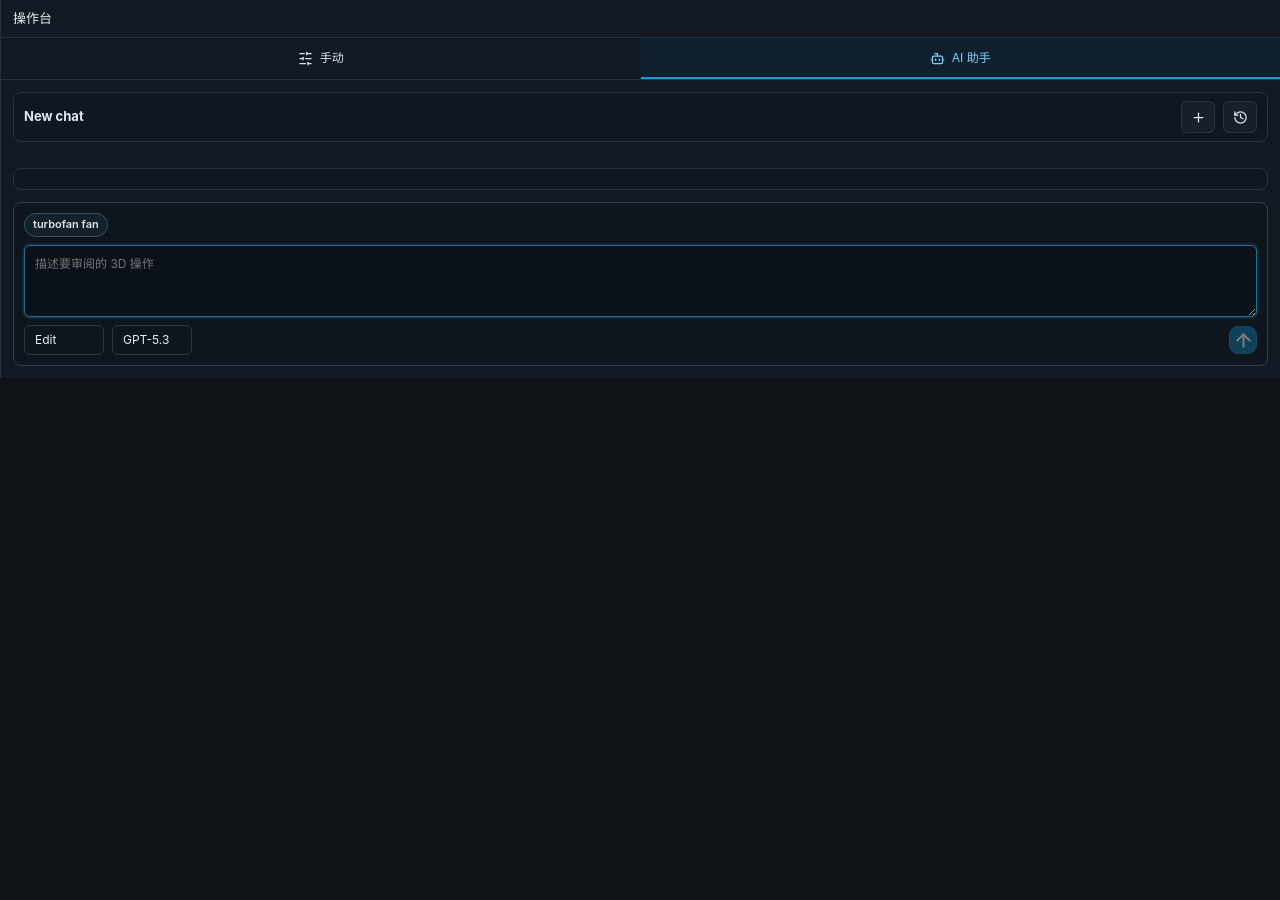
Test: InspectorPanel › collapses and expands manual operation sections independently
What coordinates should you click on to do the following:
click the button "手动"
I would click on:
 (321, 58)
Its box is [1,38,640,79].
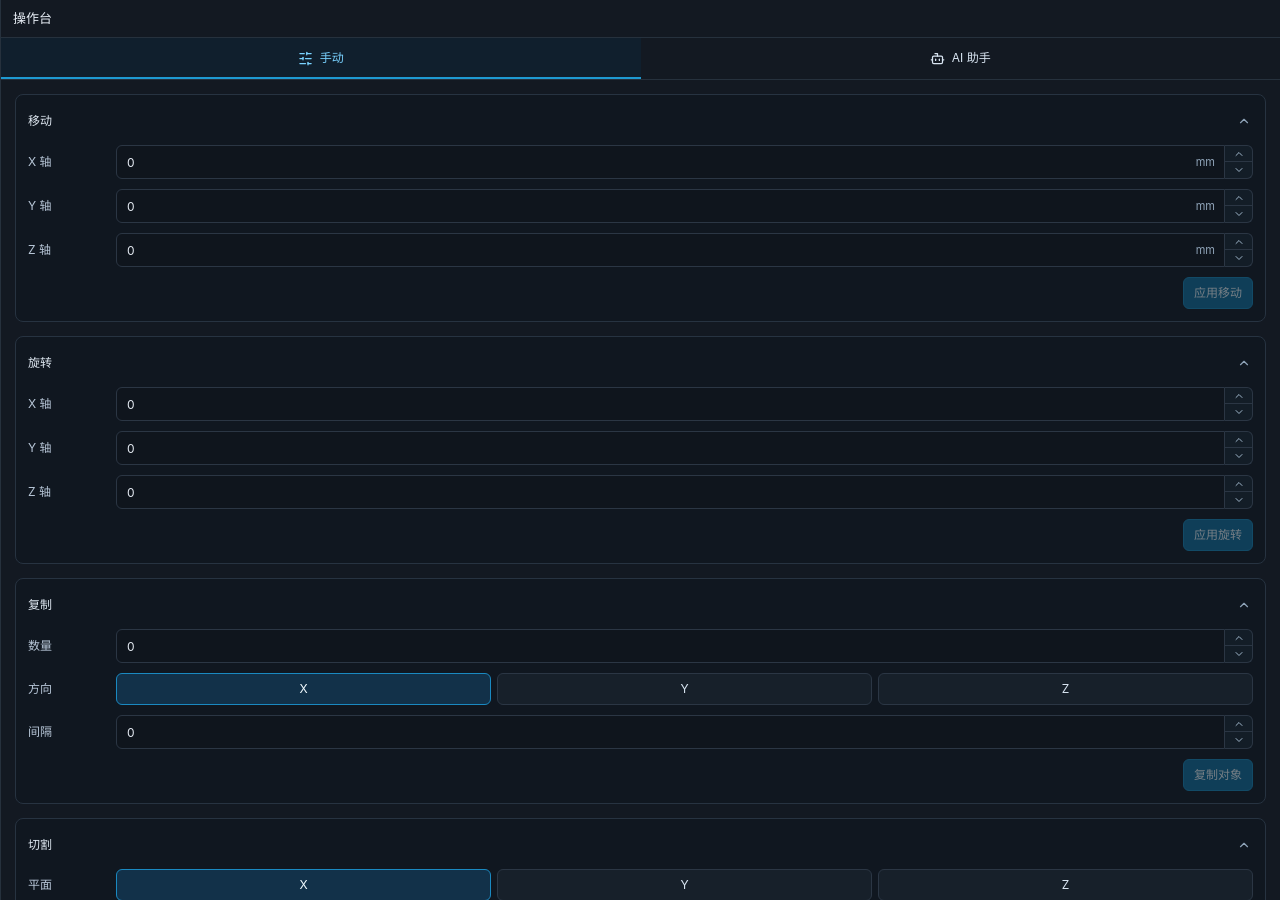
expect the button with aria-label "折叠旋转" does not show "selected": met, box [28,349,1253,377]
expect the 1st number field labelled "X 轴" is shown: met, box [116,145,1225,179]
What coordinates should you click on to do the following:
click the button with aria-label "折叠移动"
I would click on:
 (40, 120)
Its box is [28,107,1253,135].
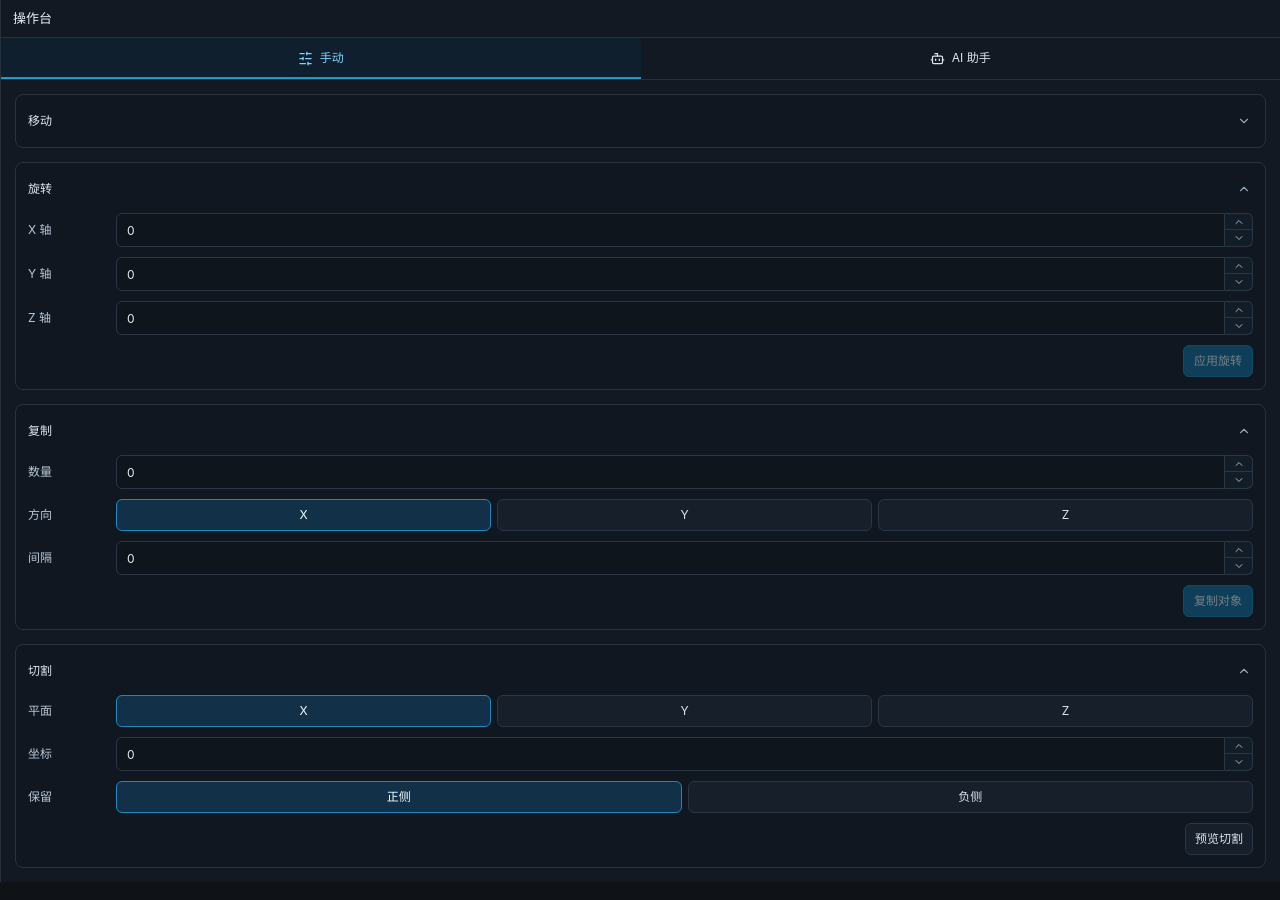
expect the number field labelled "X 轴" is shown: met, box [116,213,1225,247]
expect the button with aria-label "展开移动" is collapsed: met
What coordinates should you click on to do the following:
click the button with aria-label "展开移动"
I would click on:
 (40, 120)
Its box is [28,107,1253,135].
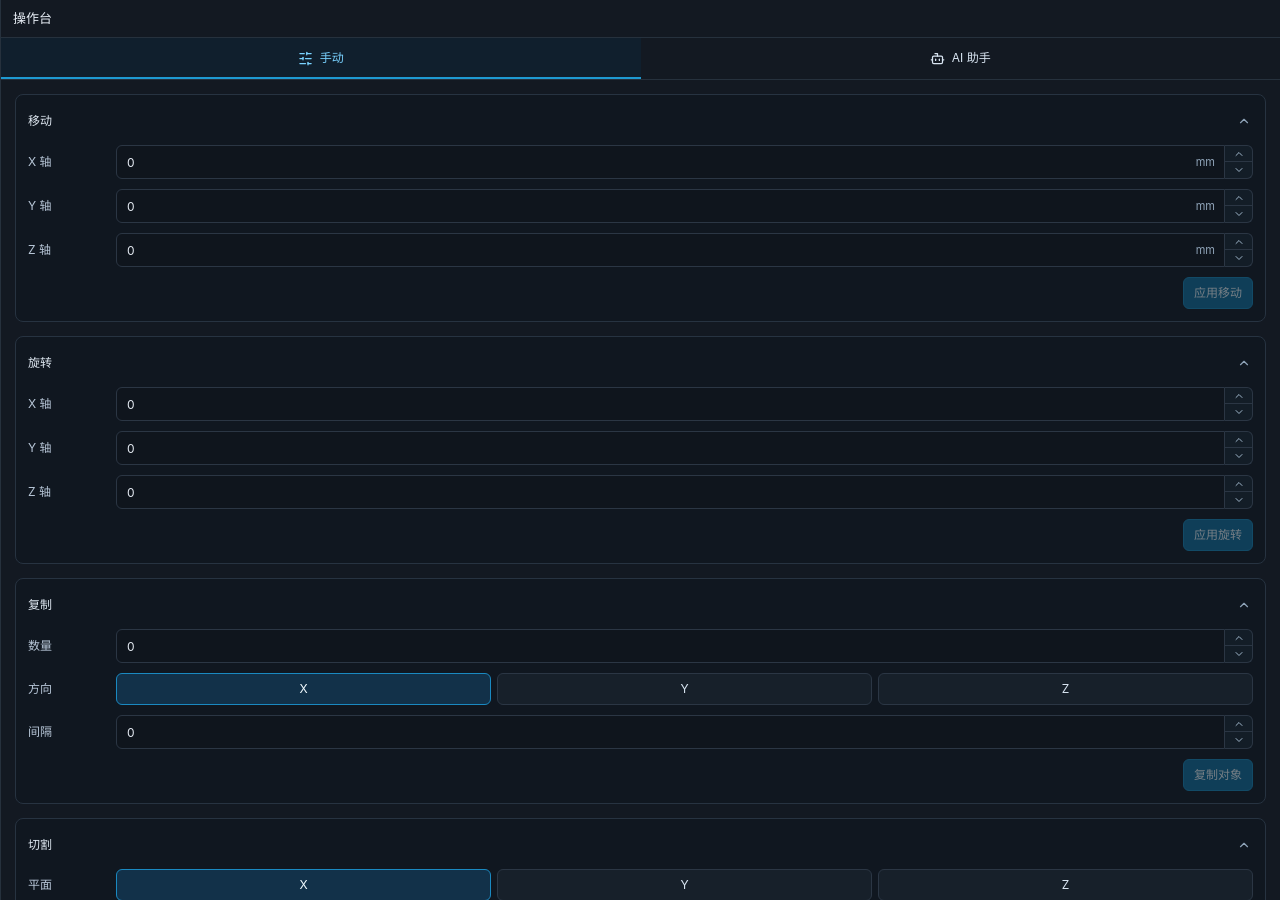
expect the button with aria-label "折叠移动" is expanded: met, box [28,107,1253,135]
expect the 1st number field labelled "X 轴" is shown: met, box [116,145,1225,179]
What coordinates should you click on to do the following:
click the button with aria-label "折叠复制"
I would click on:
 (40, 604)
Its box is [28,591,1253,619].
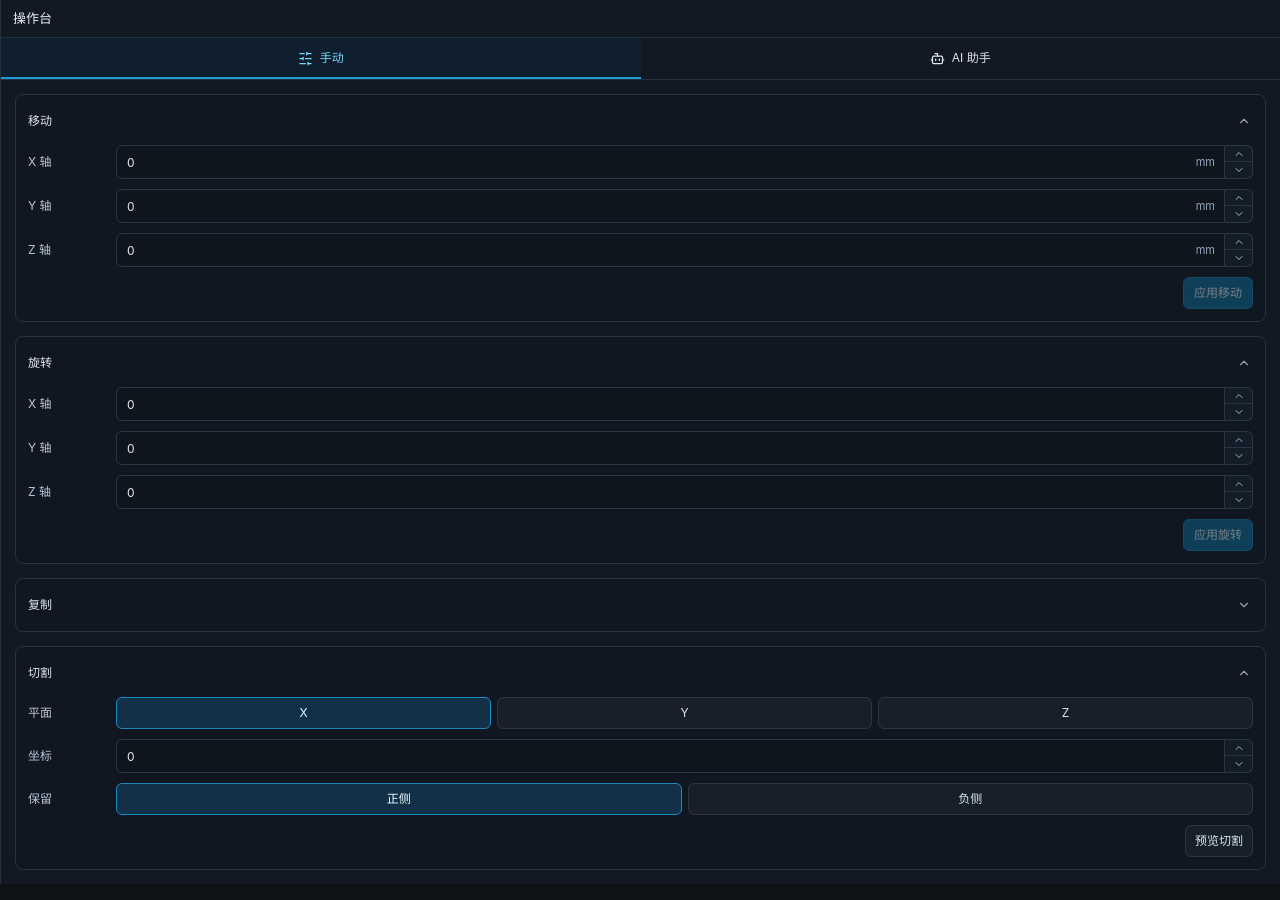
What coordinates should you click on to do the following:
click the button with aria-label "折叠切割"
I would click on:
 (40, 672)
Its box is [28,659,1253,687].
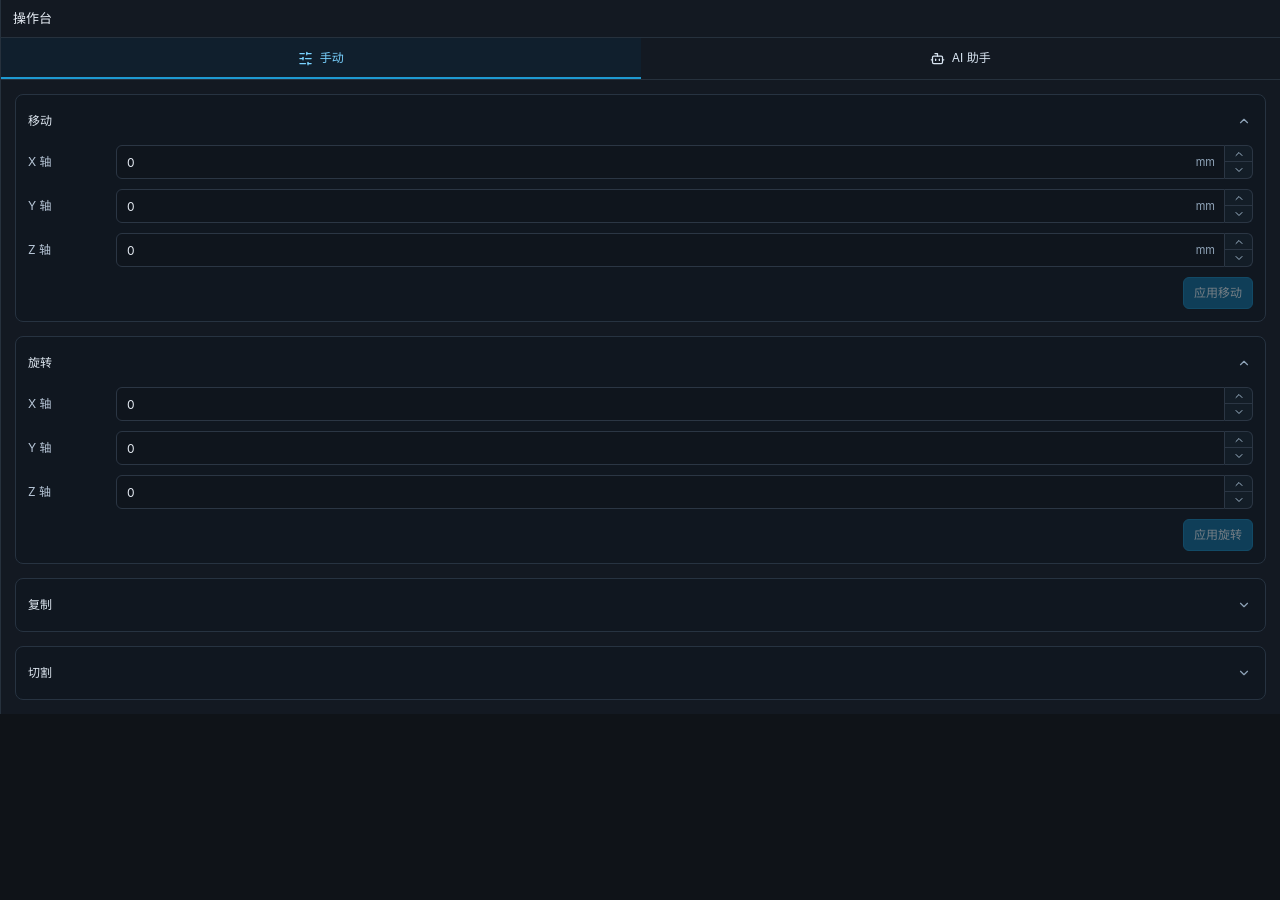
expect the label "数量" is not shown: met
expect the 1st number field labelled "X 轴" is shown: met, box [116,145,1225,179]
expect the label "坐标" is gone: met
